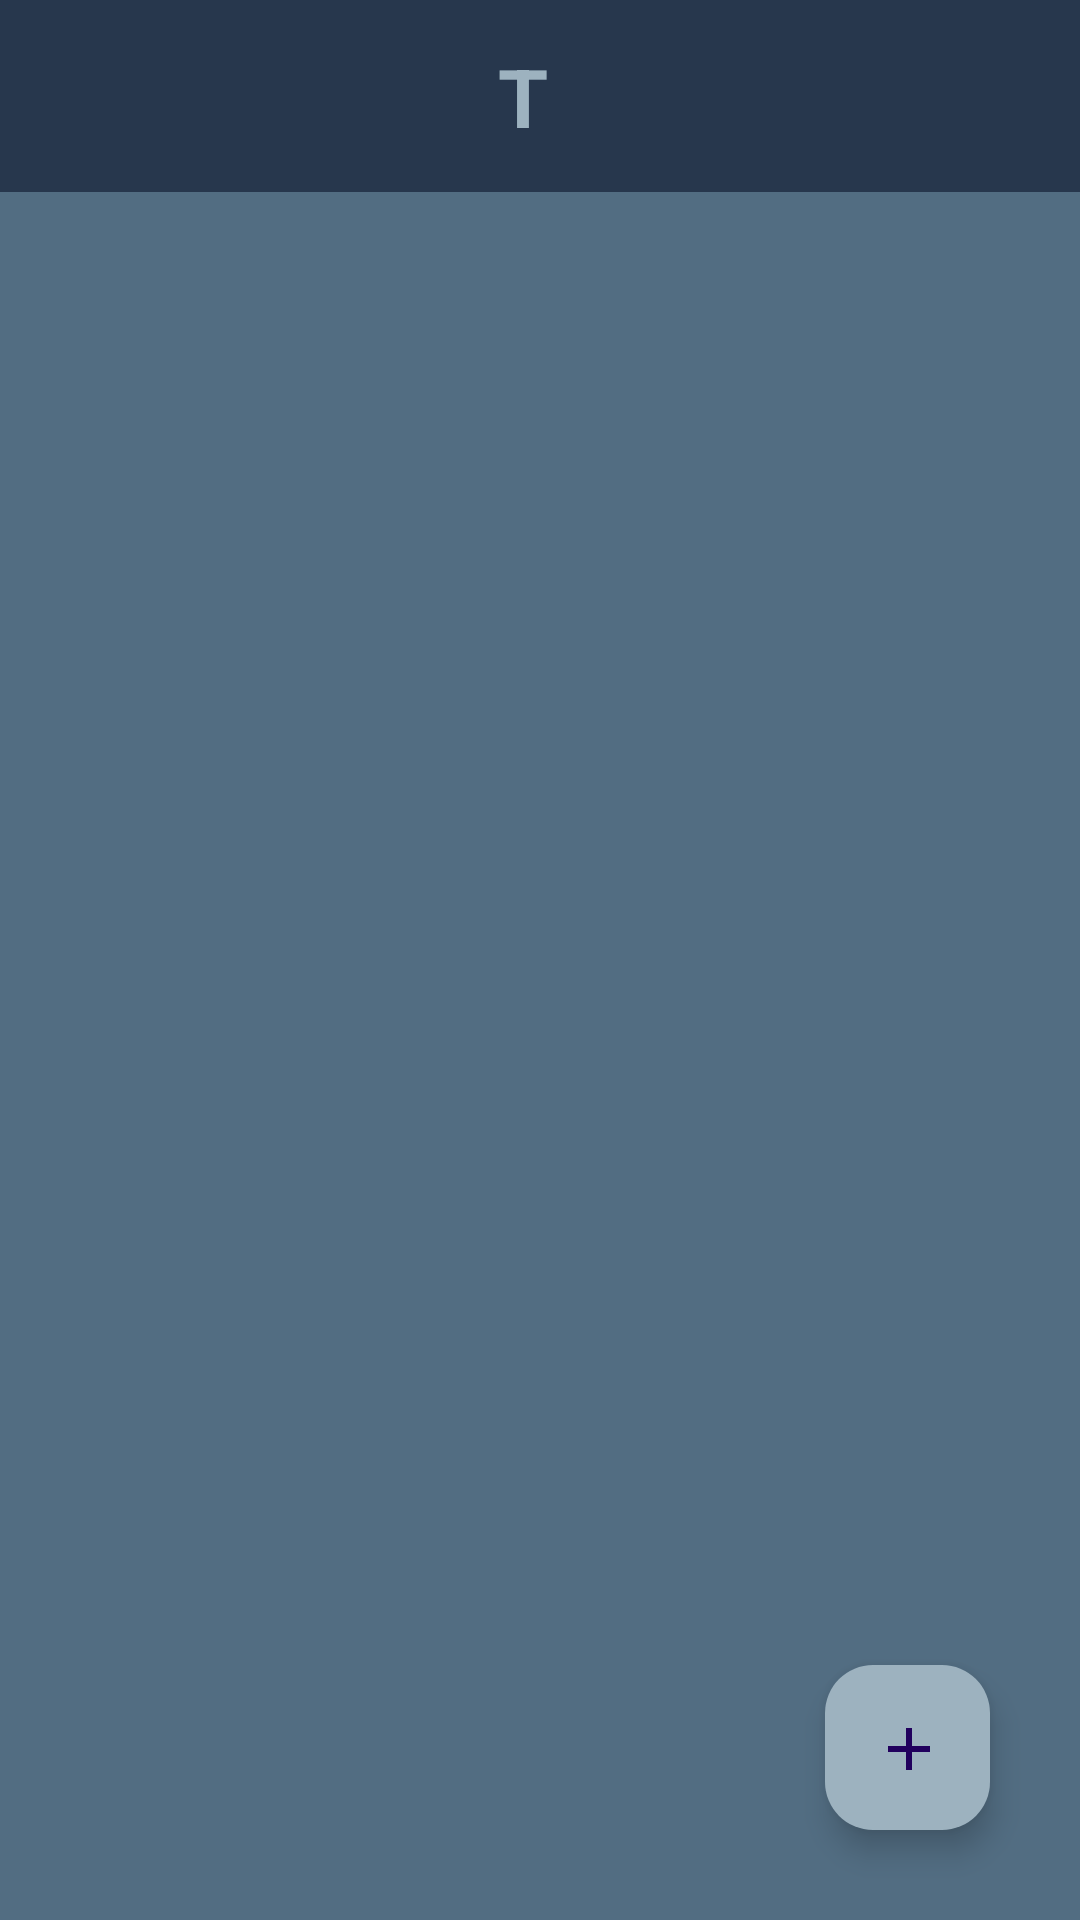

Screen size 1080px x 1920px. Icon name, then its center in pixels as (x=x, y=y):
add: (x=907, y=1747)
